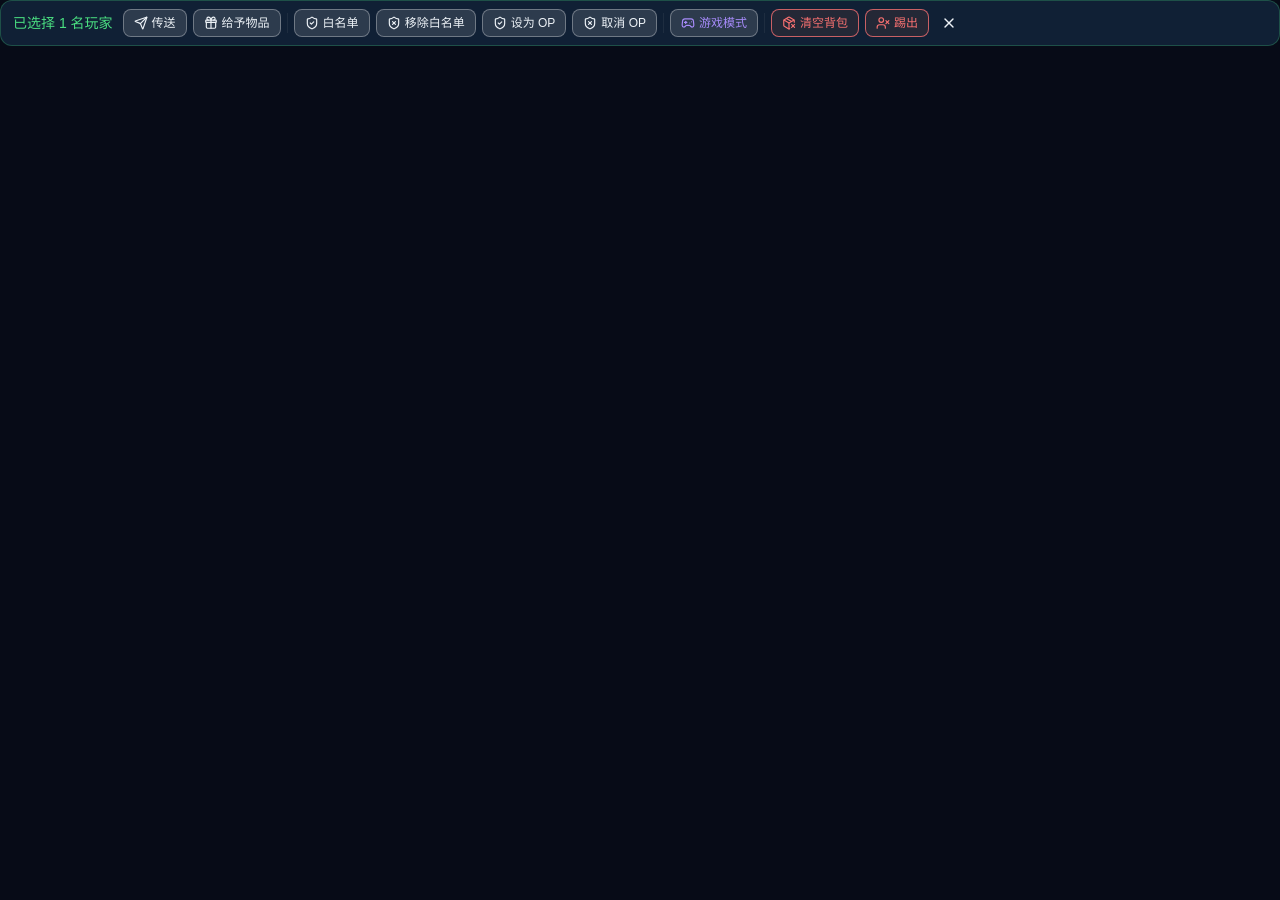
Test case: BatchBar › 清空背包确认弹窗取消：不执行动作且弹窗关闭
The image size is (1280, 900).
What coordinates should you click on to do the following:
click the button "清空背包"
I would click on:
 (815, 23)
Its box is [771,9,859,37].
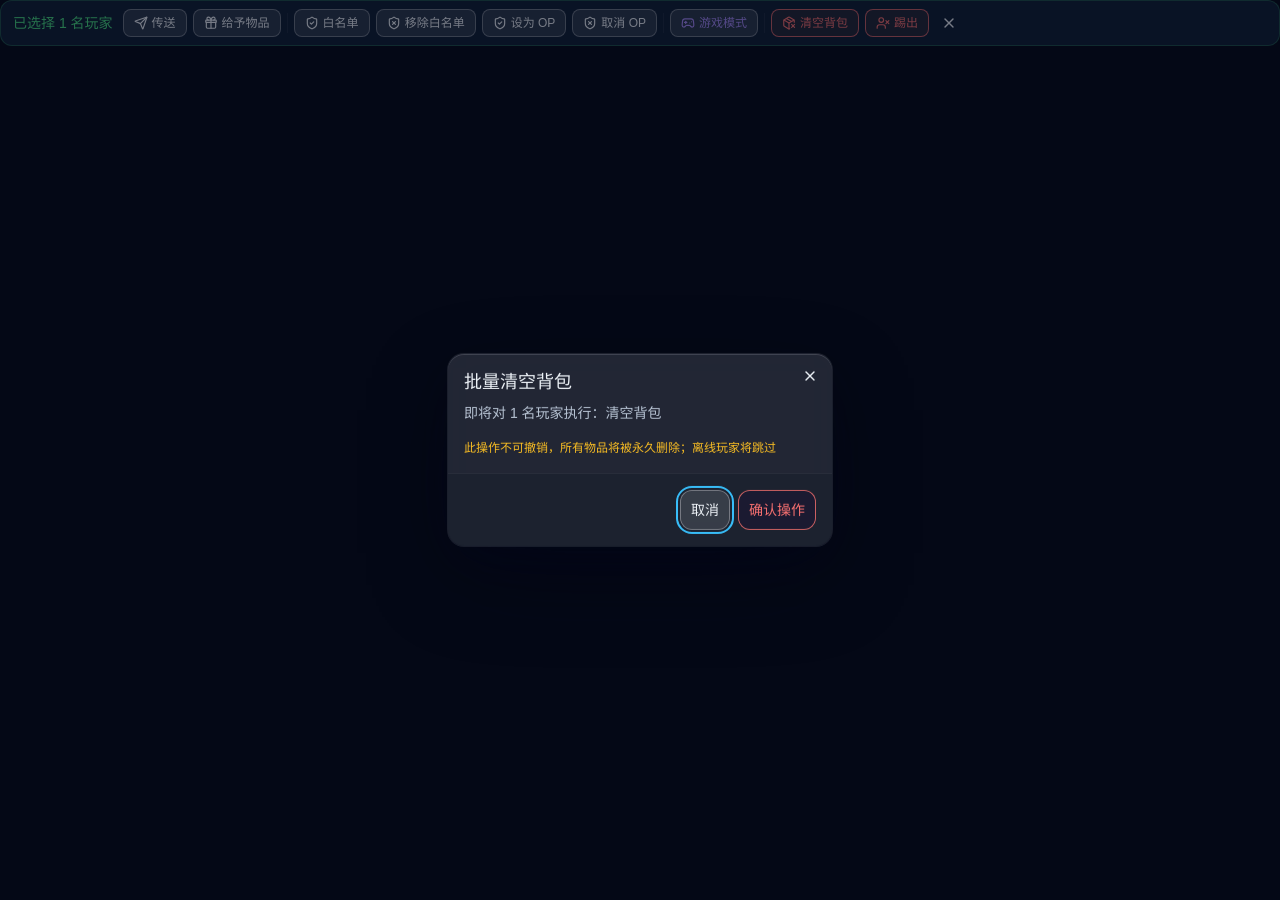
Expected: the heading "批量清空背包" is shown, [464,372,572,392]
What coordinates should you click on to do the following:
click the button "取消"
I would click on:
 (705, 510)
Its box is [680,490,730,530].
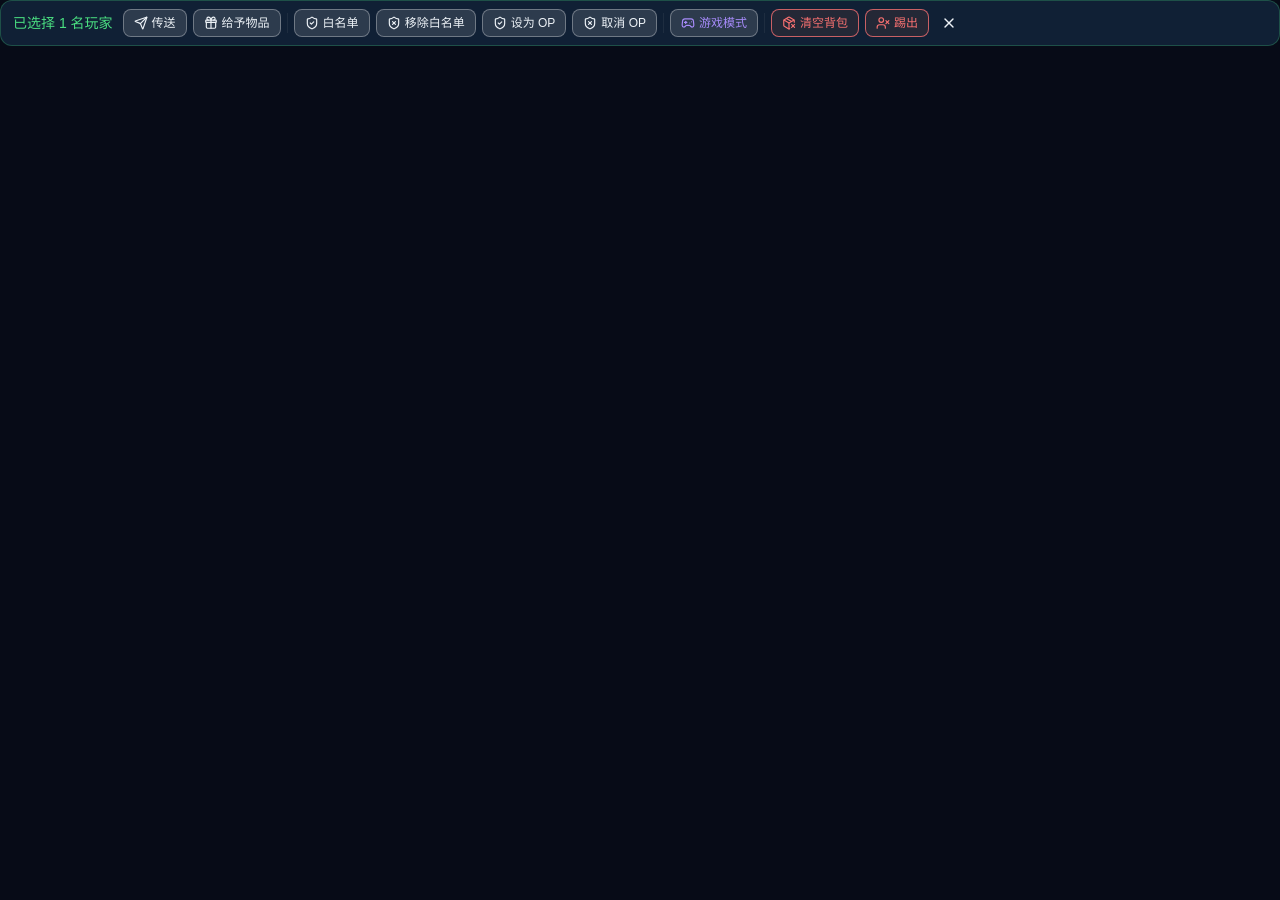
Expected: the heading "批量清空背包" is gone
